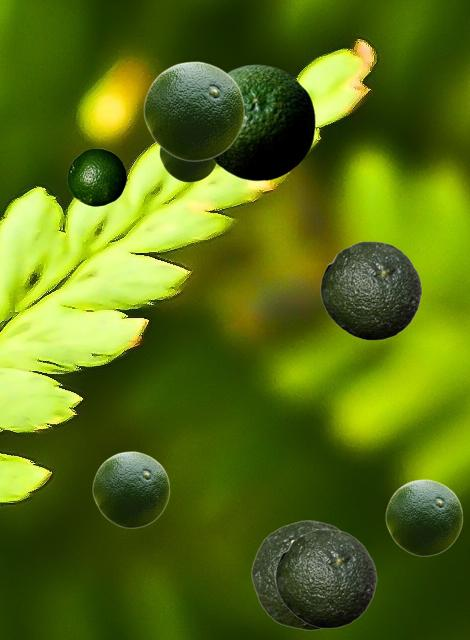calamansi: (212, 64, 314, 180), (143, 61, 244, 160), (275, 529, 376, 627), (320, 241, 421, 339), (251, 520, 340, 629), (385, 479, 462, 555), (92, 451, 169, 527), (67, 148, 126, 205), (159, 147, 216, 181)
